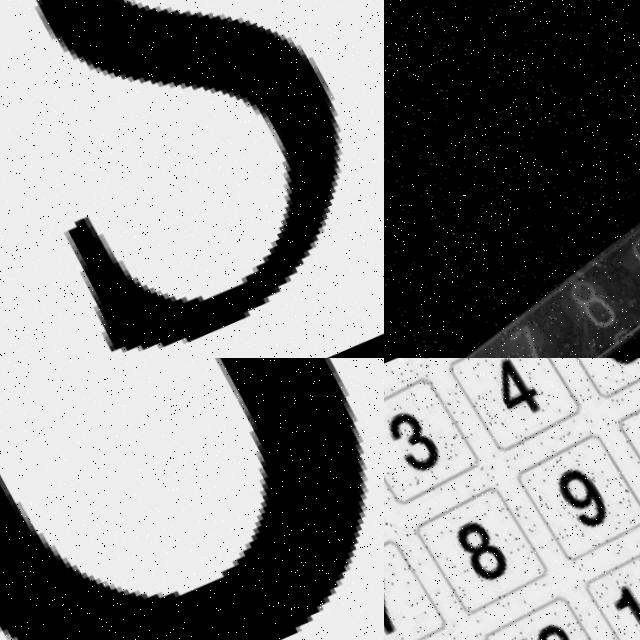1: (598, 576, 640, 640), (487, 619, 560, 640)
3: (384, 398, 454, 482), (519, 609, 596, 640)
4: (475, 358, 551, 426), (621, 556, 640, 640)
5: (580, 358, 640, 374)
7: (486, 310, 560, 358), (384, 563, 412, 640)
8: (437, 504, 517, 590), (549, 266, 617, 339)
9: (539, 454, 618, 541), (607, 217, 640, 293)
S: (0, 0, 384, 358)
